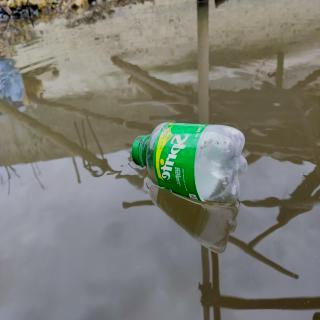bottle: (131, 120, 249, 207)
